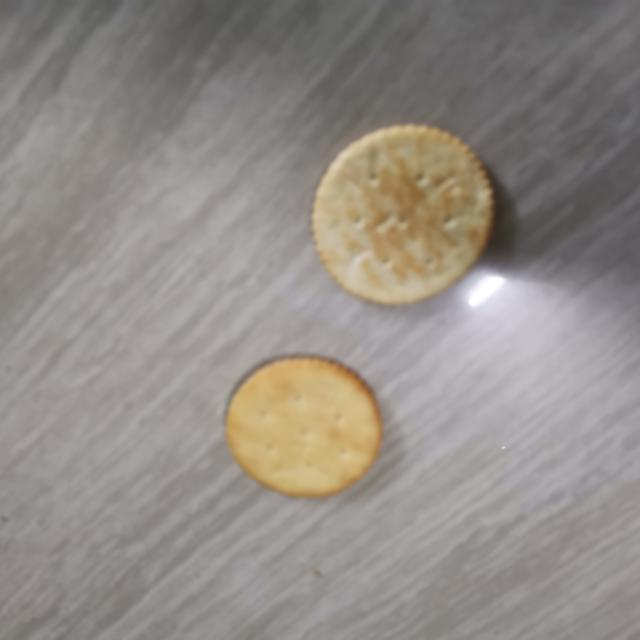Intact: (305, 109, 508, 314), (214, 349, 401, 508)
